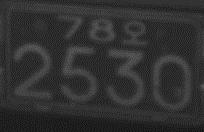0: (150, 53, 192, 112)
2: (12, 41, 52, 101)
3: (106, 47, 145, 106)
5: (58, 44, 98, 103)
7: (55, 14, 82, 40)
8: (88, 16, 116, 44)
오: (121, 20, 148, 46)
